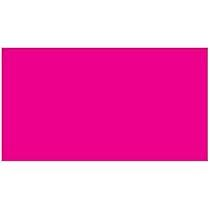pink_zone: (0, 47, 210, 161)
